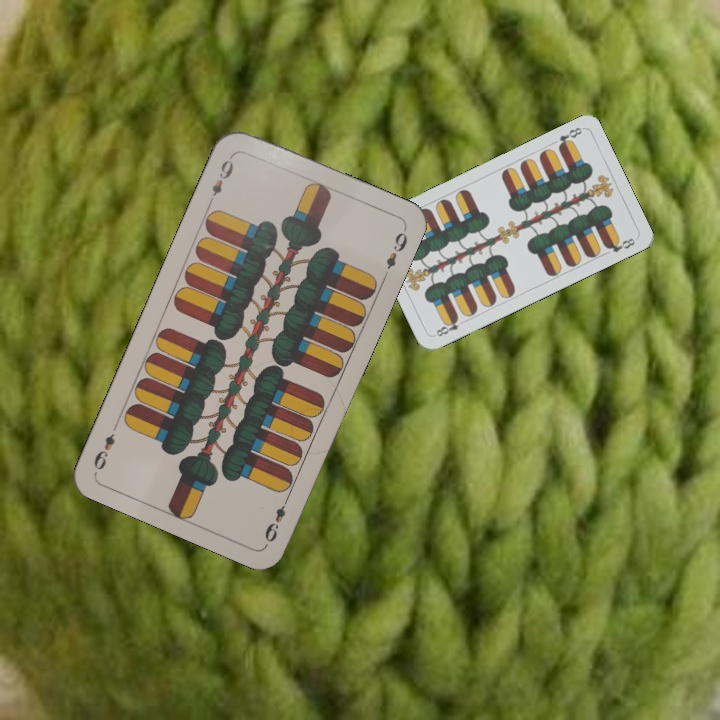E8: (430, 313, 469, 339), (554, 123, 585, 152)
E9: (204, 151, 236, 207), (260, 491, 293, 545)
